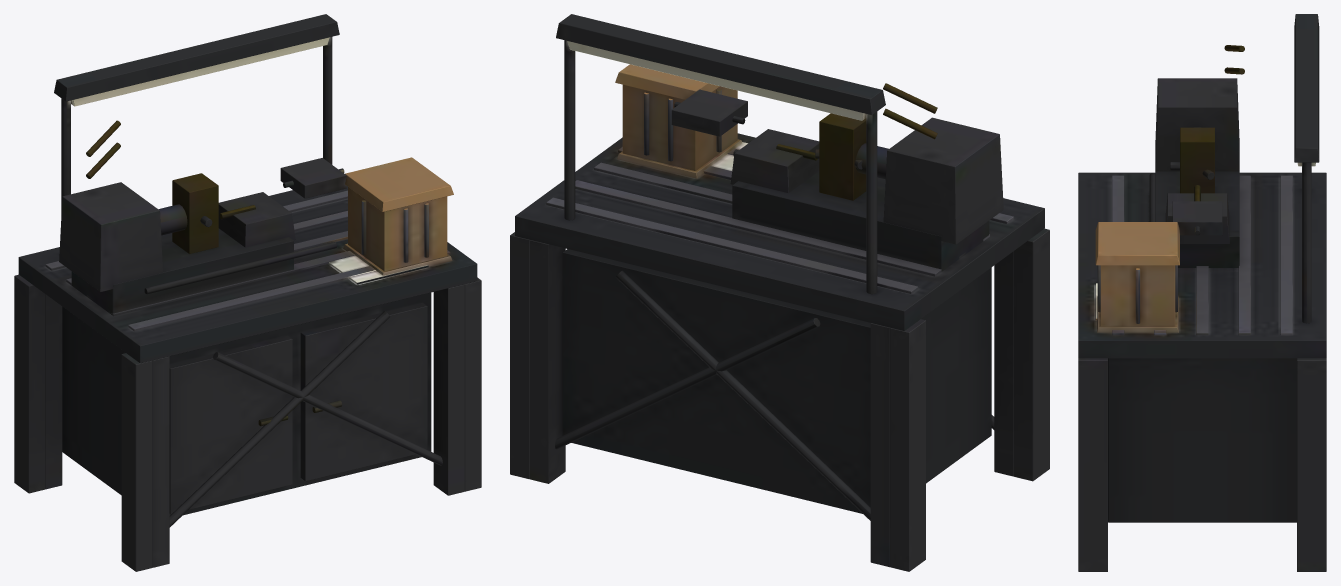
File: DD_workbench3.glb
The picture shows the model from 3 angles, left to right: view 1: azimuth 30°, elevation 25°; view 2: azimuth 150°, elevation 25°; view 3: azimuth 270°, elevation 25°; orthographic projection. The views are drawn at different scales.
Parts seen in each view (by area): view 1: DD_workbench3; view 2: DD_workbench3; view 3: DD_workbench3.
Boxes of the visible parts, bbox=[...] form: DD_workbench3: bbox=[14, 14, 481, 571]; DD_workbench3: bbox=[510, 14, 1049, 571]; DD_workbench3: bbox=[1078, 14, 1326, 571].
Bounding box in the file's own units: 1.64 × 1.8 × 1.
1 material, 1 textured.
